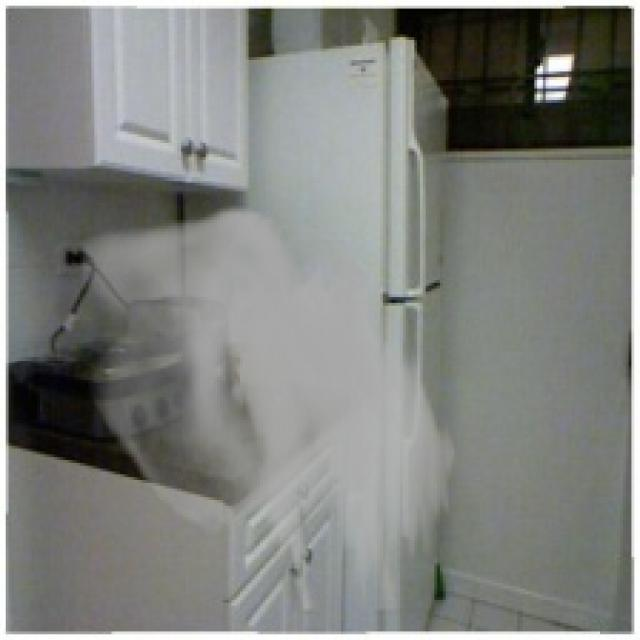Smoke: (80, 206, 460, 614)
